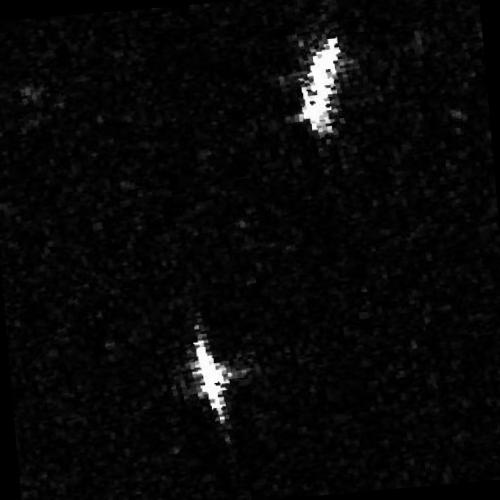ship: (300, 35, 342, 132), (193, 336, 227, 422)
